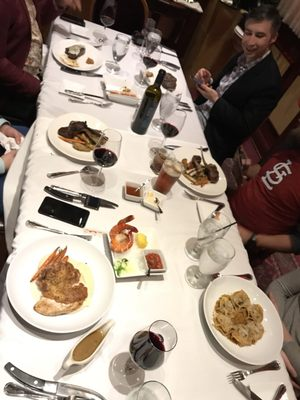salad: (53, 318, 115, 380)
sandwich: (45, 185, 119, 211), (66, 92, 115, 108)
sushi: (200, 275, 282, 365)
